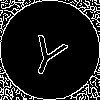Y: (25, 25, 73, 80)
